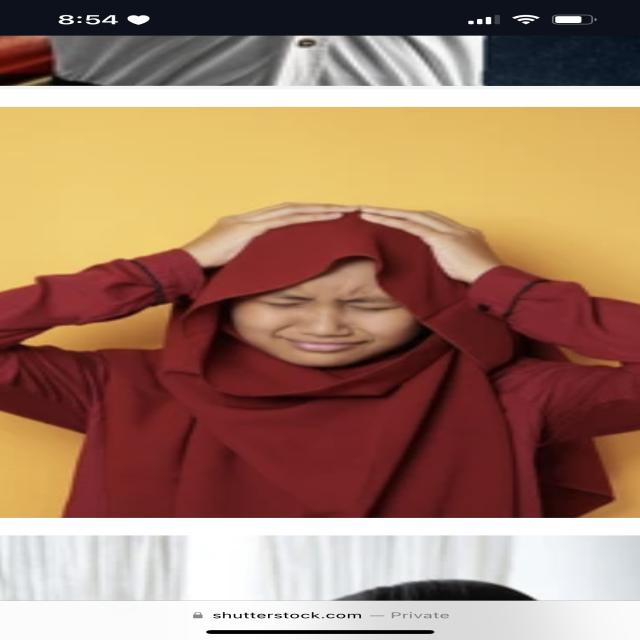sad: (177, 266, 458, 381)
